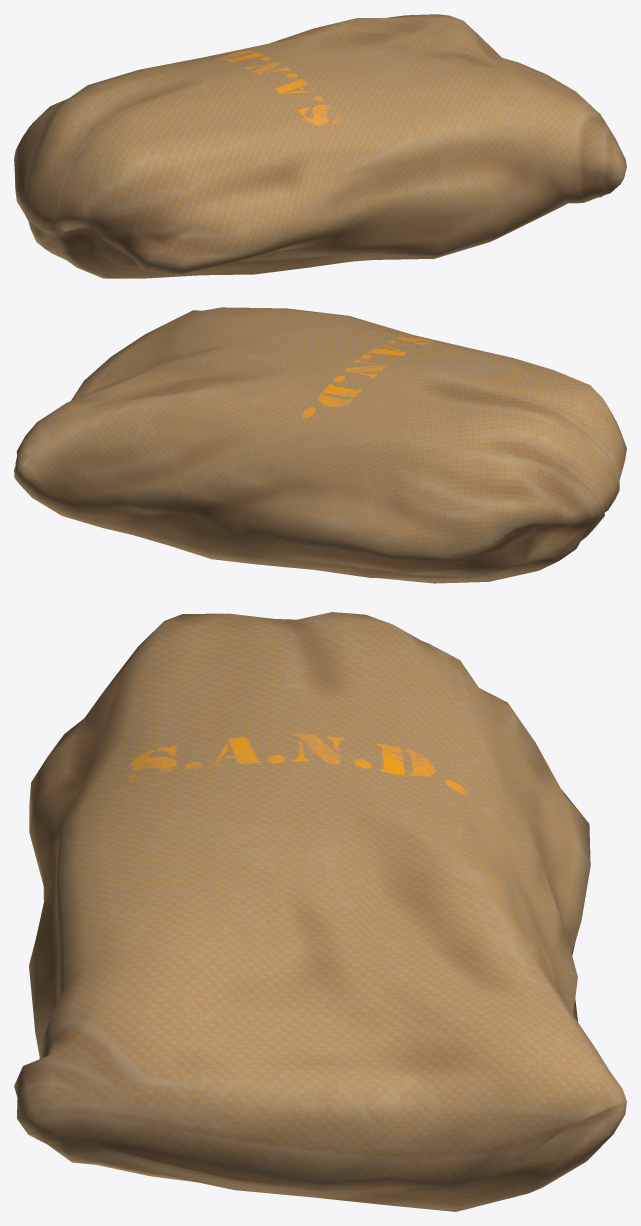
File: Sac_Sable_LOD00.FBX
3 views of the same model, one above another, from view 1: azimuth 30°, elevation 25°; view 2: azimuth 150°, elevation 25°; view 3: azimuth 270°, elevation 25° (orthographic). The views are drawn at different scales.
Visible parts, largest first — view 1: Sac_Sable_LOD00; view 2: Sac_Sable_LOD00; view 3: Sac_Sable_LOD00.
Boxes of the visible parts, left/top/right/bottom form: Sac_Sable_LOD00: left=14, top=14, right=626, bottom=278; Sac_Sable_LOD00: left=14, top=307, right=626, bottom=583; Sac_Sable_LOD00: left=14, top=612, right=626, bottom=1211.
Size of the model in its own units: 73.34 by 25.5 by 46.02.
